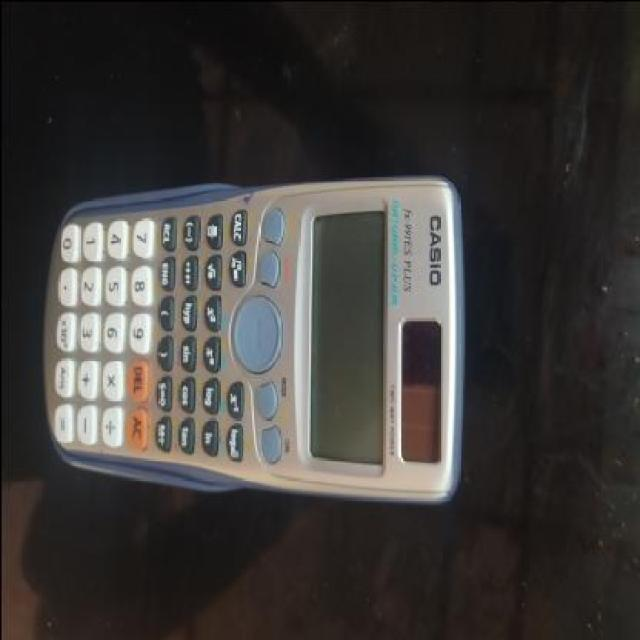Calculator: (35, 165, 472, 510)
